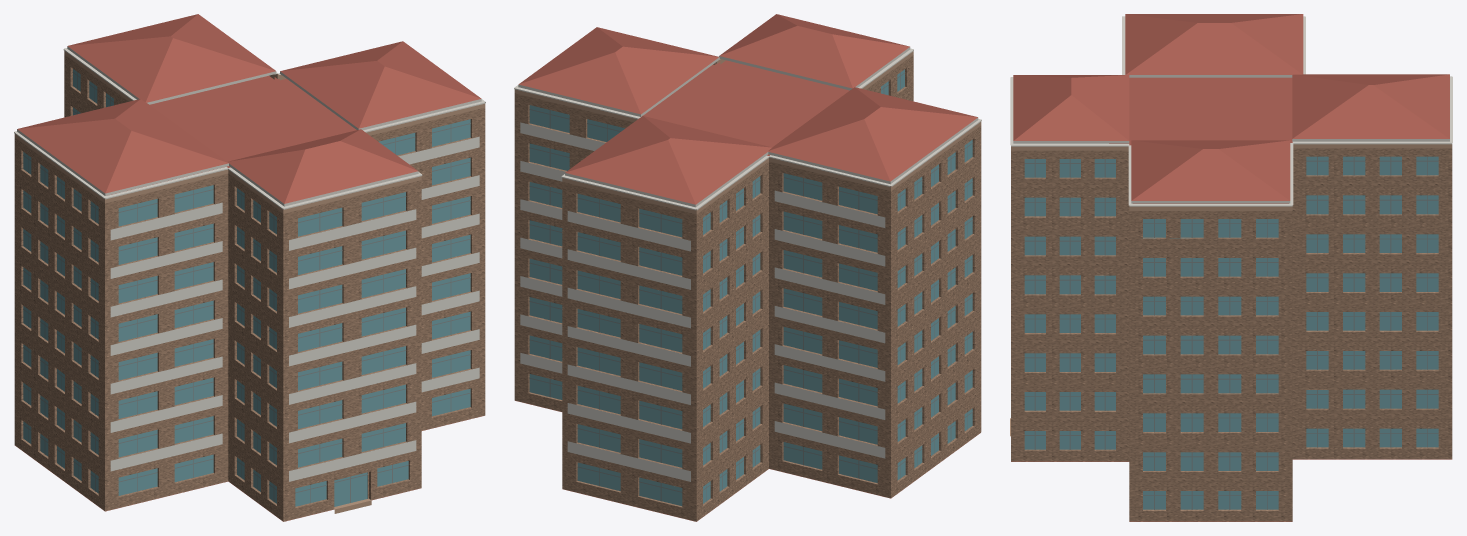
The picture shows the model from 3 angles, left to right: view 1: azimuth 30°, elevation 25°; view 2: azimuth 150°, elevation 25°; view 3: azimuth 270°, elevation 25°; orthographic projection.
Parts seen in each view (by area): view 1: dormWest__wall, dormWest__roof, dormWest__glass, dormWest__wall2, dormWest__frame, dormWest__trim, dormWest__parapet; view 2: dormWest__wall, dormWest__roof, dormWest__glass, dormWest__wall2, dormWest__frame, dormWest__trim, dormWest__parapet; view 3: dormWest__wall, dormWest__roof, dormWest__glass, dormWest__frame, dormWest__trim, dormWest__parapet.
Boxes of the visible parts, x1,y1,x2,y2 form: dormWest__wall: [14, 54, 485, 521]; dormWest__roof: [16, 14, 484, 521]; dormWest__glass: [23, 69, 470, 506]; dormWest__wall2: [110, 136, 479, 481]; dormWest__frame: [23, 72, 470, 503]; dormWest__trim: [14, 46, 485, 209]; dormWest__parapet: [14, 51, 485, 213]; dormWest__wall: [514, 55, 981, 521]; dormWest__roof: [515, 14, 979, 521]; dormWest__glass: [529, 69, 972, 505]; dormWest__wall2: [520, 122, 885, 481]; dormWest__frame: [529, 72, 972, 501]; dormWest__trim: [514, 47, 981, 210]; dormWest__parapet: [514, 51, 981, 214]; dormWest__wall: [1011, 148, 1452, 521]; dormWest__roof: [1011, 14, 1451, 521]; dormWest__glass: [1024, 156, 1438, 509]; dormWest__frame: [1024, 156, 1438, 509]; dormWest__trim: [1010, 16, 1452, 206]; dormWest__parapet: [1011, 144, 1452, 210].
Size of the model in its own units: 37.65 by 32 by 37.17.
9 materials, 1 textured.
